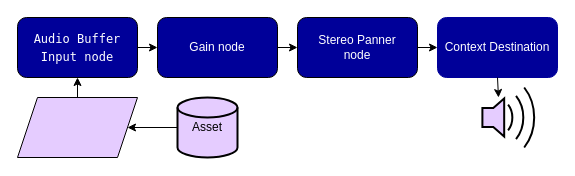
Image size: 575x176. Some labels were removed from this diagram. The box of each missing label's shape, as (x1, y1, x2, y2) in pixels:
Audio Buffer: (16, 96, 138, 158)
Speaker: (481, 86, 538, 148)
